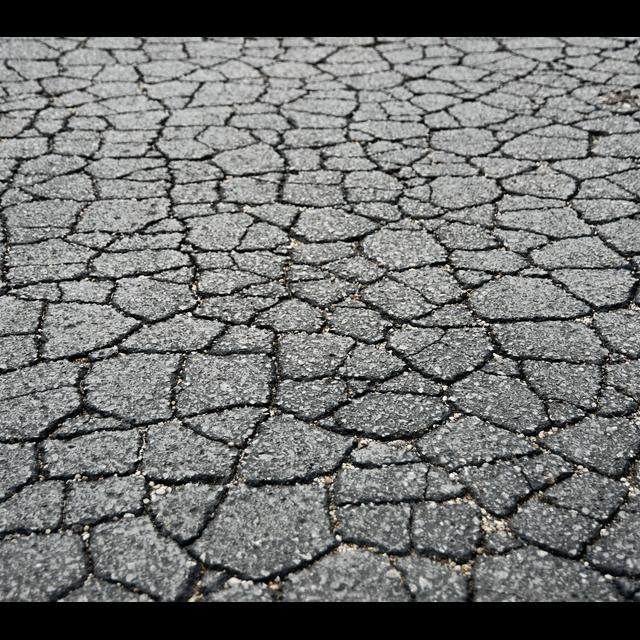retak_kulit_buaya: (0, 37, 640, 602)
